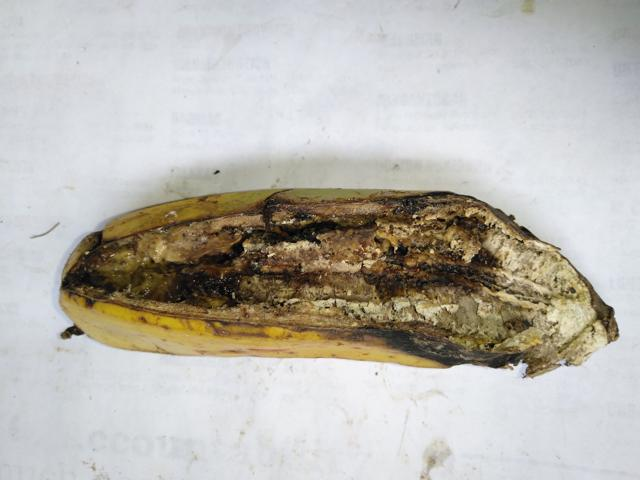rotten: (39, 174, 624, 389)
